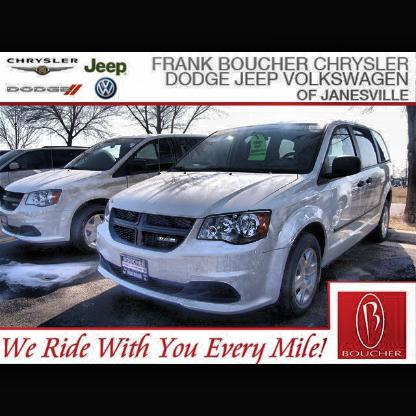Ram C-V Cargo Van Minivan 2012: (99, 124, 394, 317)
